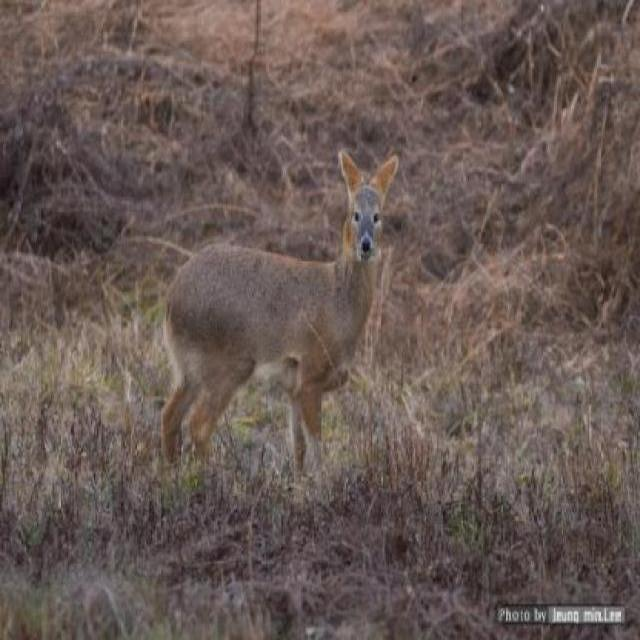deer: (148, 137, 416, 500)
